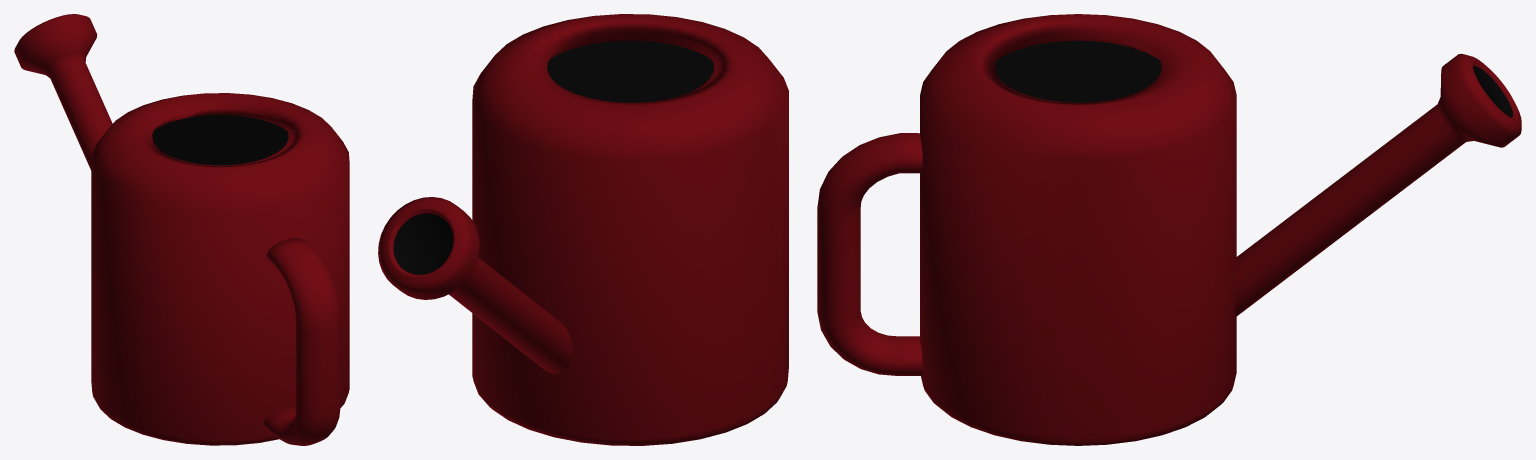
The model's file is Watering_can.obj.
3 views of the same model, side by side, from view 1: azimuth 30°, elevation 25°; view 2: azimuth 150°, elevation 25°; view 3: azimuth 270°, elevation 25° (orthographic). The views are drawn at different scales.
Visible parts, largest first — view 1: 円柱.001; view 2: 円柱.001; view 3: 円柱.001.
Part boxes in pixels (x1=…): 円柱.001: x1=14, y1=14, x2=349, y2=445; 円柱.001: x1=378, y1=14, x2=788, y2=445; 円柱.001: x1=817, y1=14, x2=1521, y2=445.
Bounding box in the file's own units: 2 × 2.25 × 4.45.
